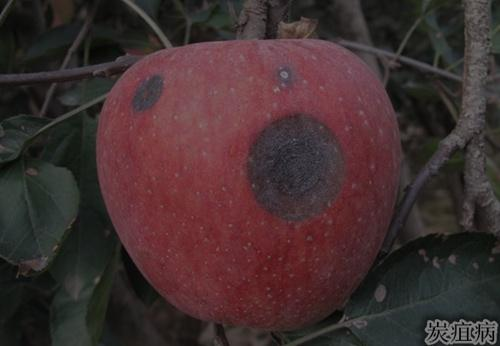rotten apple: (97, 38, 410, 333)
